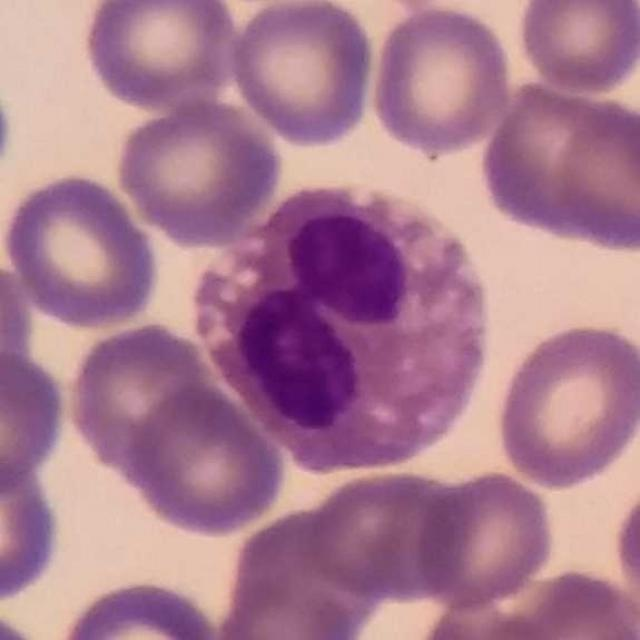Eosinophil: (200, 170, 498, 480)
RBC: (120, 379, 290, 538), (0, 168, 164, 332), (111, 95, 285, 246), (491, 318, 640, 492), (64, 318, 218, 486), (295, 464, 472, 602), (366, 2, 518, 158), (223, 0, 379, 149), (411, 468, 558, 611), (475, 77, 603, 235), (237, 501, 381, 629), (76, 0, 241, 111), (513, 0, 640, 98), (556, 107, 640, 254), (51, 573, 226, 640), (0, 346, 71, 499), (499, 564, 640, 640), (0, 447, 66, 609), (212, 572, 368, 640), (423, 586, 544, 640), (0, 249, 37, 413), (609, 471, 640, 635)
